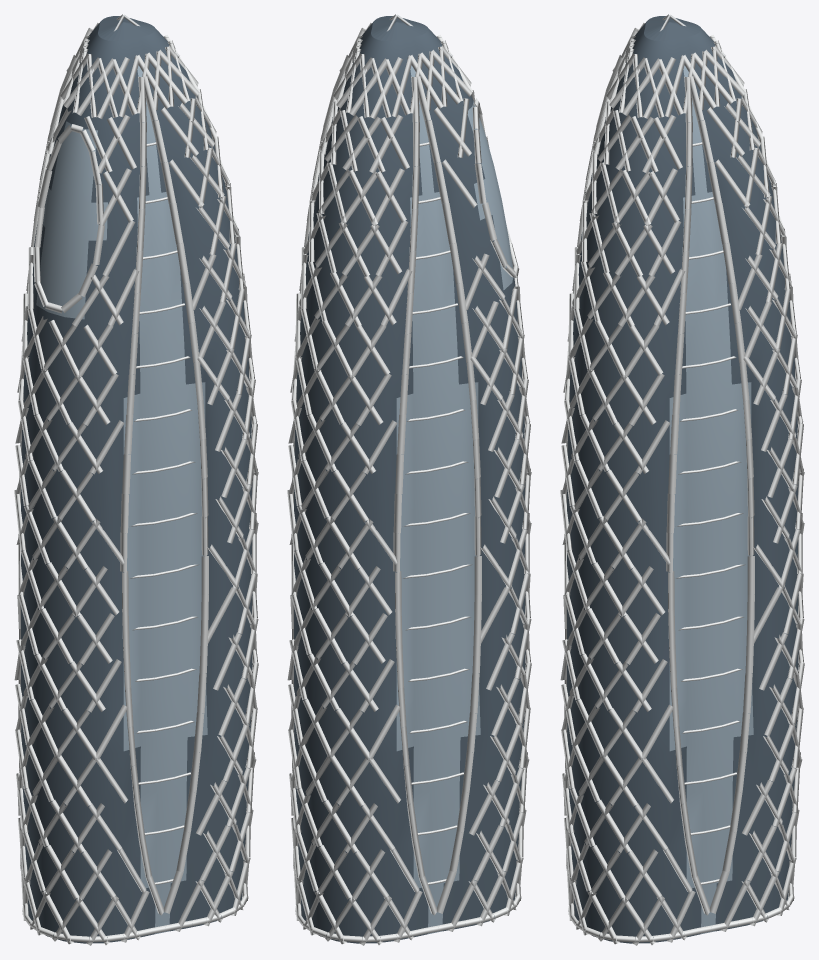
Rendered from tokyo-mode-gakuen-cocoon-tower.glb.
3 views of the same model, side by side, from view 1: azimuth 30°, elevation 25°; view 2: azimuth 150°, elevation 25°; view 3: azimuth 270°, elevation 25° (orthographic).
Visible parts, largest first — view 1: Mode Gakuen Cocoon Tower; view 2: Mode Gakuen Cocoon Tower; view 3: Mode Gakuen Cocoon Tower.
Boxes of the visible parts, x1,y1,x2,y2 form: Mode Gakuen Cocoon Tower: (14,14,258,945); Mode Gakuen Cocoon Tower: (287,14,531,945); Mode Gakuen Cocoon Tower: (560,14,804,945).
Size of the model in its own units: 53.04 by 204 by 51.3.
